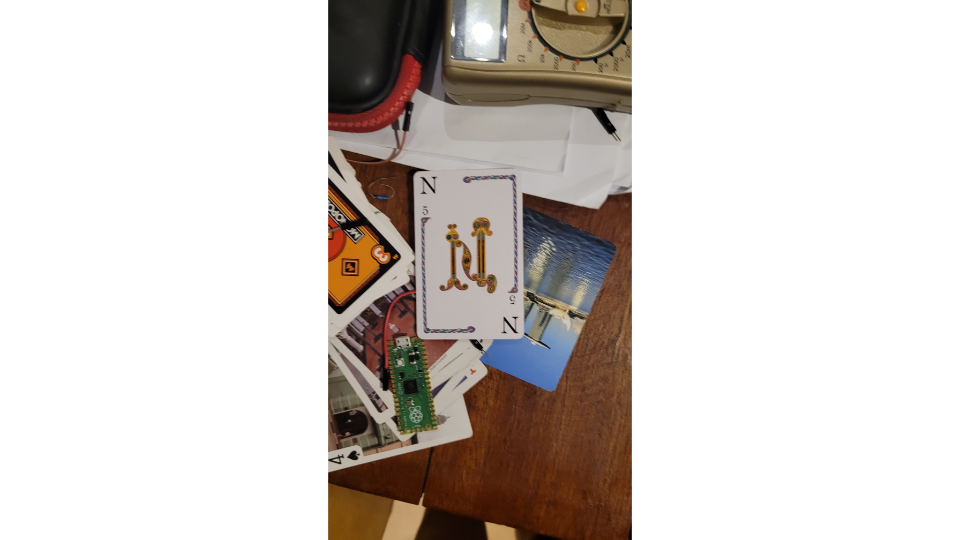N: (408, 164, 529, 342)
